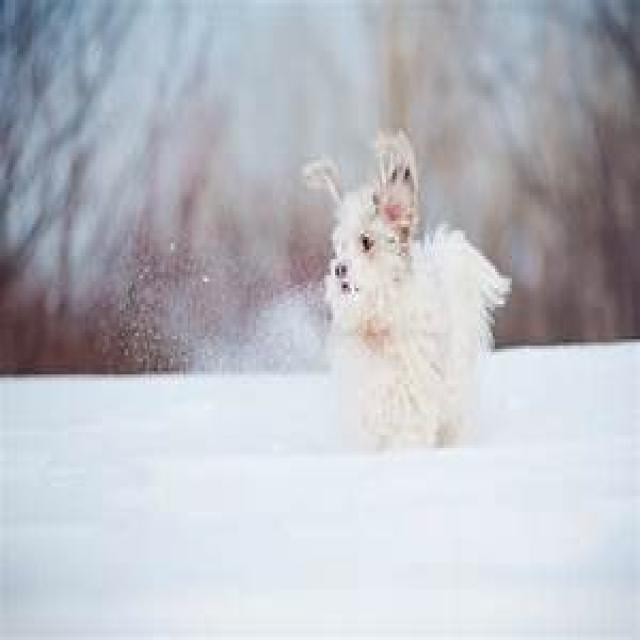dog: (301, 125, 512, 451)
